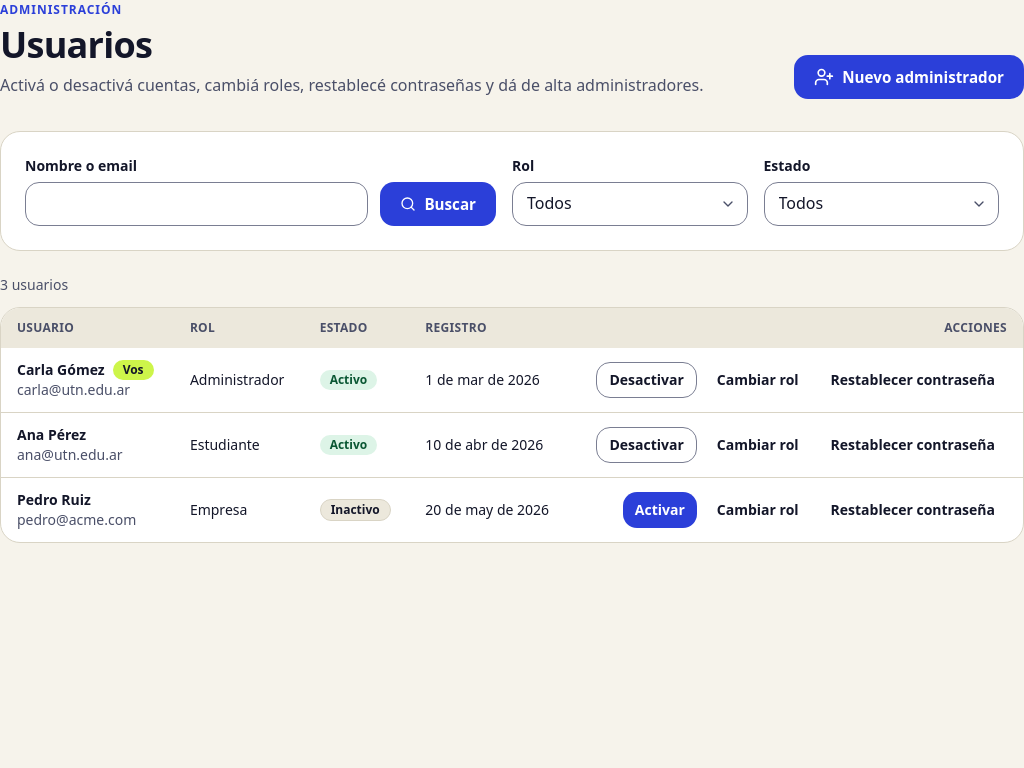
Test: UsuariosAdminPage › si el administrador intenta cambiarse el rol a sí mismo, muestra el mensaje del servidor (409)
Click the button with aria-label "Cambiar rol de Carla Gómez".
click(758, 380)  # box x1=705 y1=362 x2=810 y2=398
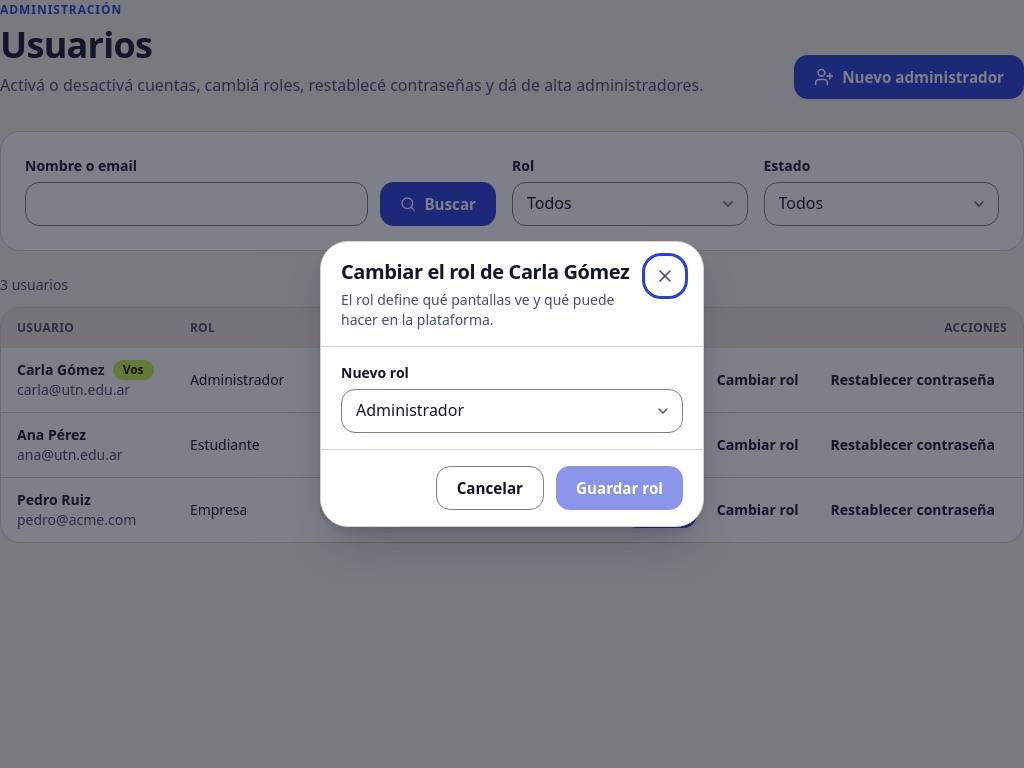
Select "Docente" in the dropdown labelled "Nuevo rol" at (512, 411), box x1=341 y1=389 x2=683 y2=433
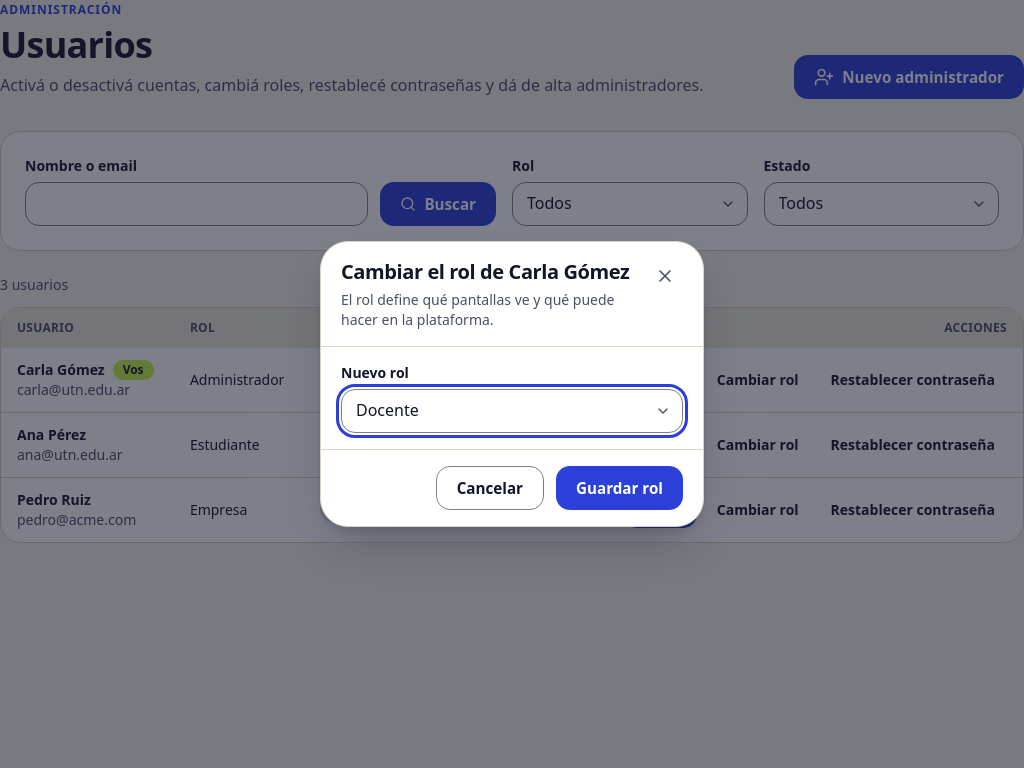
Click the button "Guardar rol".
click(620, 488)  # box x1=556 y1=466 x2=683 y2=510
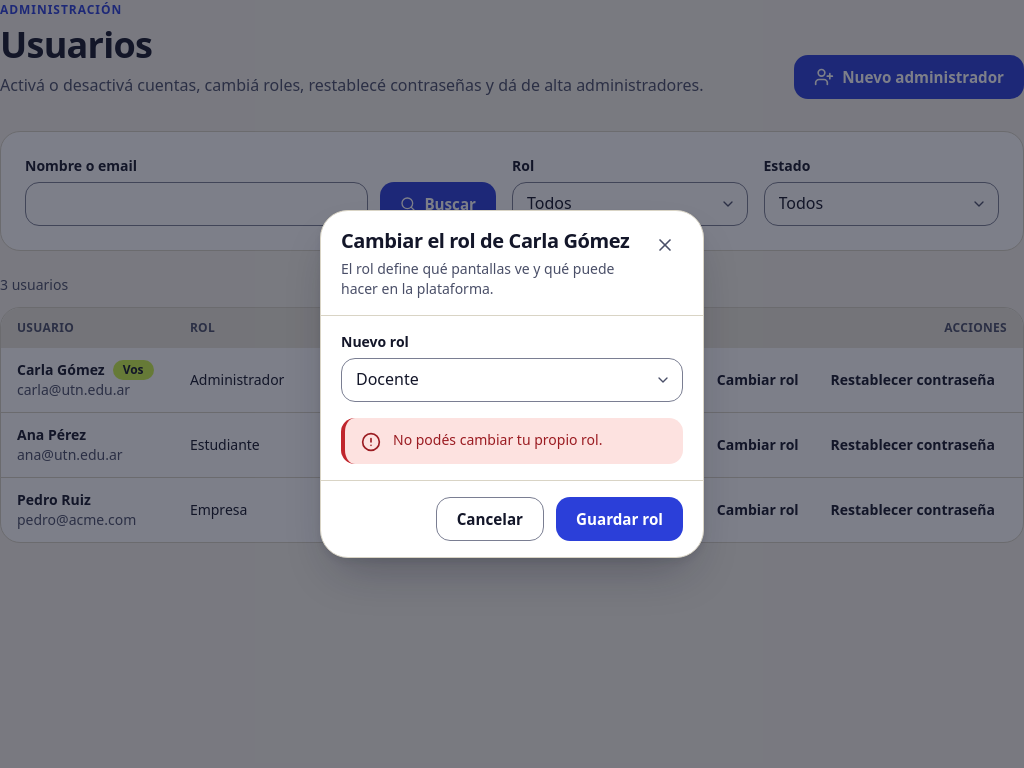
Now the text "No podés cambiar tu propio rol." is shown, box x1=393 y1=430 x2=602 y2=450
